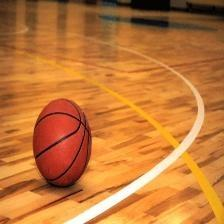Sports-Ball: (27, 92, 96, 191)
